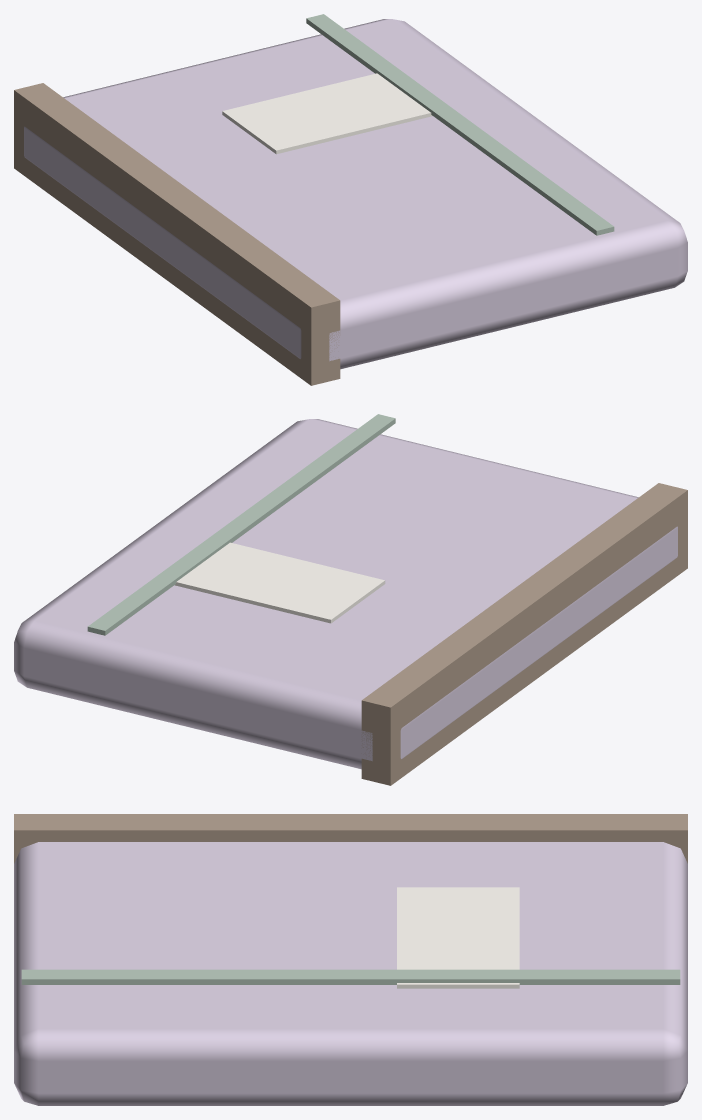
File: notebook.glb
3 views of the same model, one above another, from view 1: azimuth 30°, elevation 25°; view 2: azimuth 150°, elevation 25°; view 3: azimuth 270°, elevation 25° (orthographic). The views are drawn at different scales.
Visible parts, largest first — view 1: notebook.material0, notebook.material2, notebook.material1, notebook.material3; view 2: notebook.material0, notebook.material2, notebook.material1, notebook.material3; view 3: notebook.material0, notebook.material2, notebook.material1, notebook.material3.
Boxes of the visible parts, left/top/right/bottom form: notebook.material0: left=24, top=19, right=687, bottom=369; notebook.material2: left=14, top=83, right=340, bottom=385; notebook.material1: left=222, top=73, right=432, bottom=154; notebook.material3: left=306, top=14, right=614, bottom=235; notebook.material0: left=14, top=419, right=677, bottom=769; notebook.material2: left=361, top=483, right=687, bottom=785; notebook.material1: left=174, top=542, right=385, bottom=623; notebook.material3: left=87, top=414, right=395, bottom=635; notebook.material0: left=14, top=842, right=687, bottom=1105; notebook.material2: left=14, top=814, right=687, bottom=863; notebook.material1: left=397, top=887, right=519, bottom=988; notebook.material3: left=21, top=969, right=680, bottom=984.
Size of the model in its own units: 0.33 by 0.067 by 0.44.
